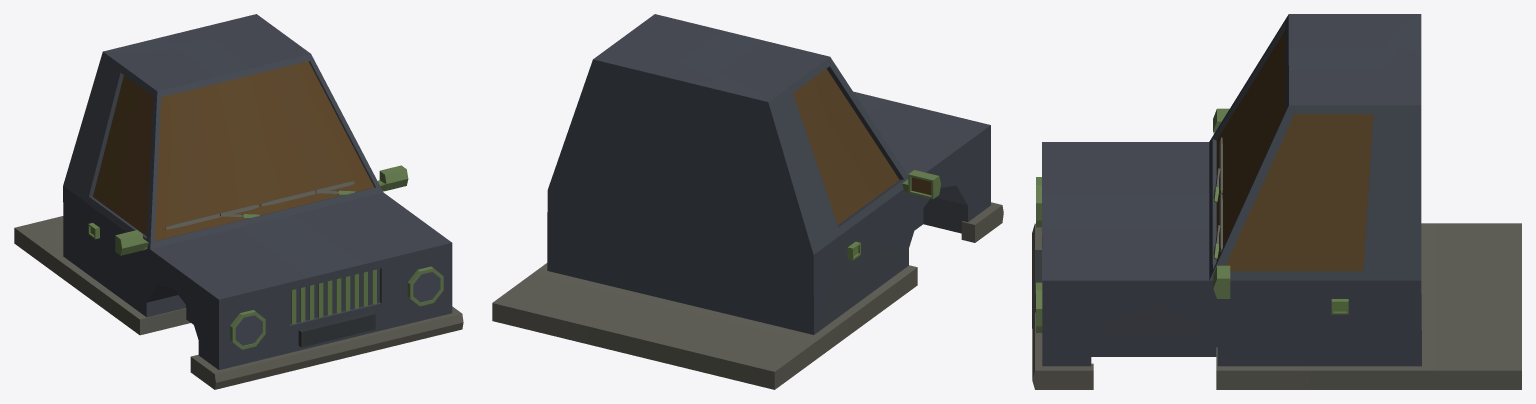
File: Car_31.fbx
The picture shows the model from 3 angles, left to right: view 1: azimuth 30°, elevation 25°; view 2: azimuth 150°, elevation 25°; view 3: azimuth 270°, elevation 25°; orthographic projection. The views are drawn at different scales.
Visible parts, largest first — view 1: Car_31; view 2: Car_31; view 3: Car_31.
Part boxes in pixels (box(x1,y1,x2,y2)): Car_31: box(14, 14, 463, 389); Car_31: box(492, 14, 1003, 389); Car_31: box(1032, 14, 1521, 389).
Bounding box in the file's own units: 2.4 × 1.69 × 2.92.
